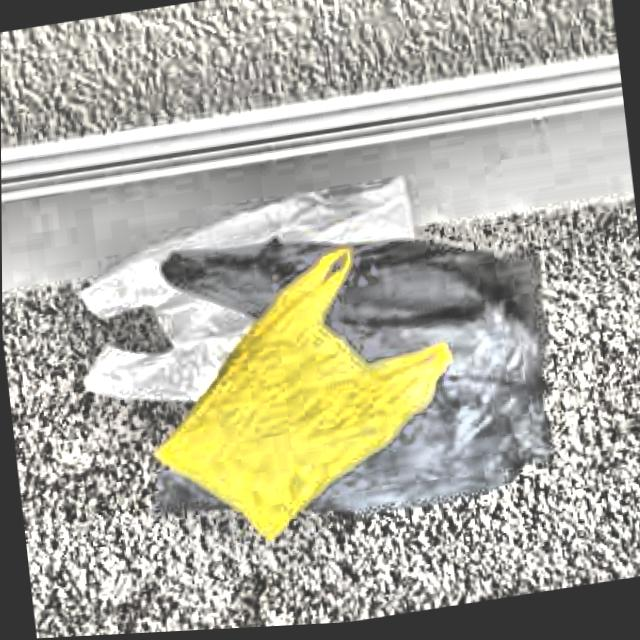Plastic: (153, 188, 574, 573), (143, 241, 481, 592), (69, 166, 453, 449)
